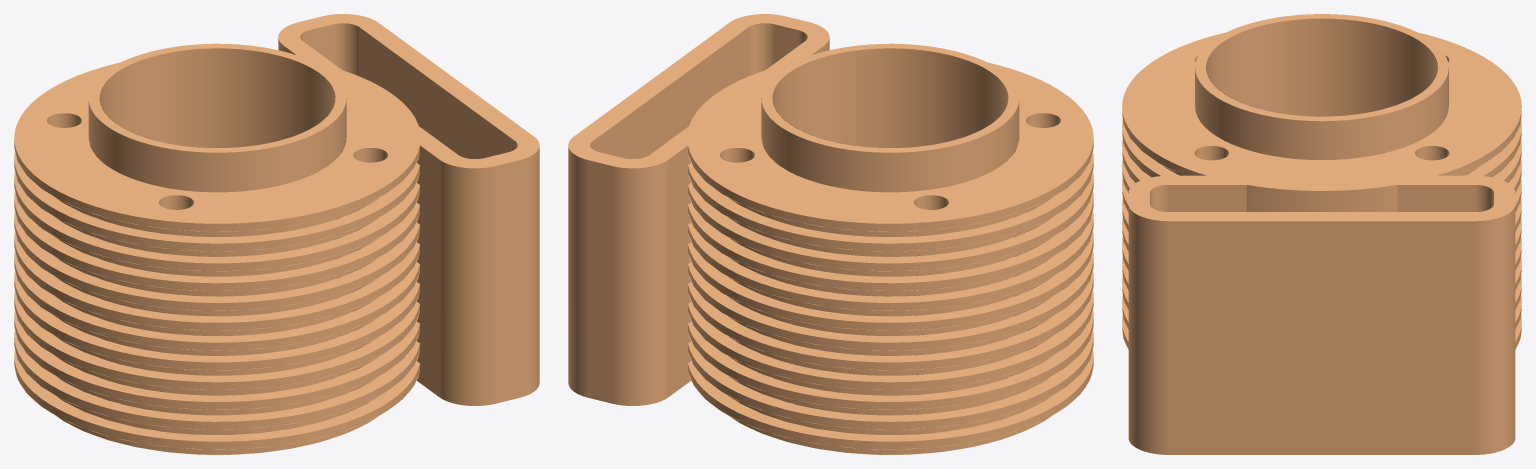
3 views of the same model, side by side, from view 1: azimuth 30°, elevation 25°; view 2: azimuth 150°, elevation 25°; view 3: azimuth 270°, elevation 25° (orthographic).
Parts seen in each view (by area): view 1: Part18.IGS (×48); view 2: Part18.IGS (×48); view 3: Part18.IGS (×18).
Boxes of the visible parts, <box> form: Part18.IGS (×48): <box>14,14,539,454</box>; Part18.IGS (×48): <box>568,14,1093,454</box>; Part18.IGS (×18): <box>1122,14,1521,454</box>.
Bounding box in the file's own units: 0.1096 × 0.07 × 0.093.
